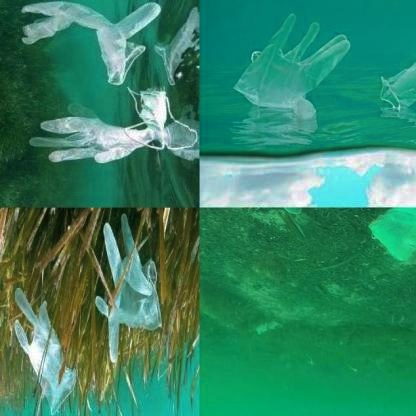Mask: (228, 3, 354, 127), (378, 0, 416, 118), (121, 88, 168, 152), (368, 208, 416, 263)
glove: (20, 1, 154, 86), (95, 209, 165, 364), (10, 282, 80, 415), (25, 99, 158, 164)
